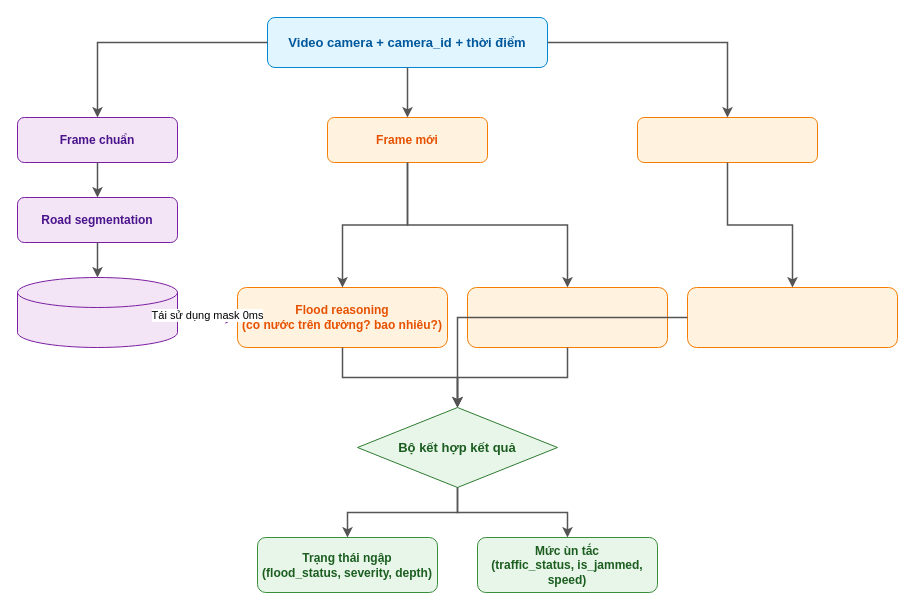
This 915x610 diagram has some shape labels left out. The box of each missing label's shape, as (x1, y1, x2, y2) in pixels:
Flood detector (độ sâu có đáng tin không?): (466, 286, 668, 348)
Nhiều frame liên tiếp: (636, 116, 818, 162)
road_mask (lưu để tái sử dụng): (16, 276, 178, 348)
Traffic counter (xe có di chuyển / chậm / dừng?): (686, 286, 898, 348)
